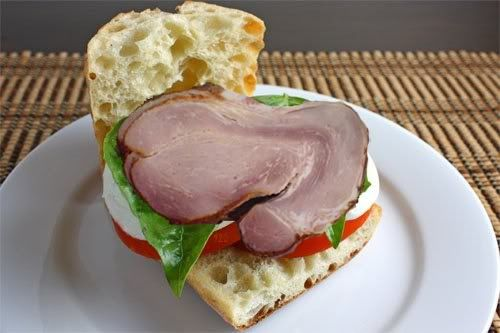sandwich: (62, 1, 418, 331)
